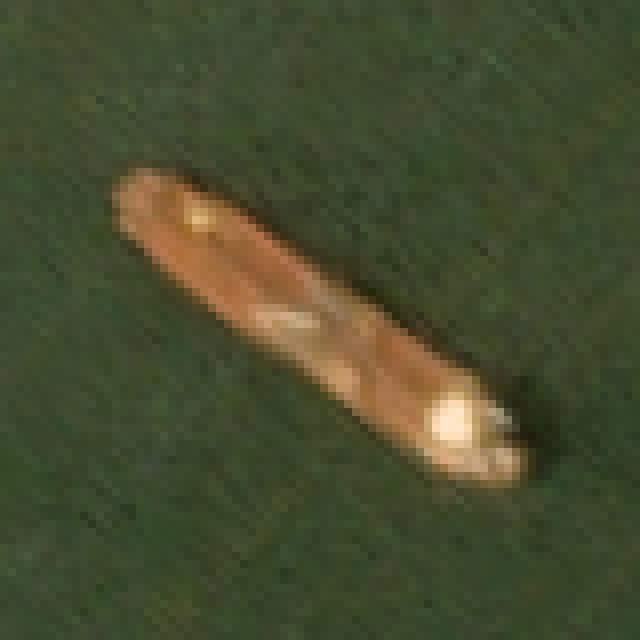ship: (102, 113, 538, 528)
